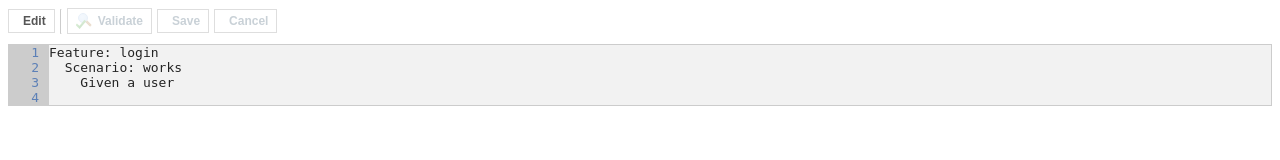
Test: Cucumber Test panel › stays editable and explains itself when saving fails
The width and height of the screenshot is (1280, 160).
Click the button "Edit": click(31, 21) [8,9,55,33]
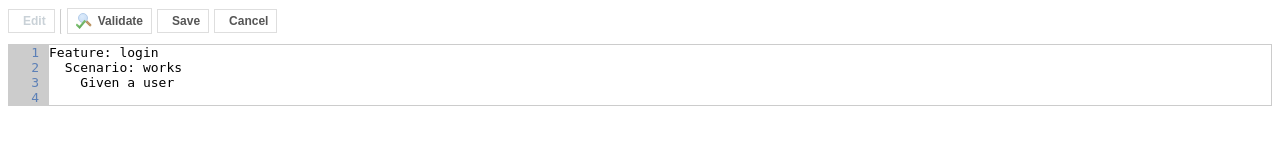
Click the button "Save": click(183, 21) [157,9,209,33]
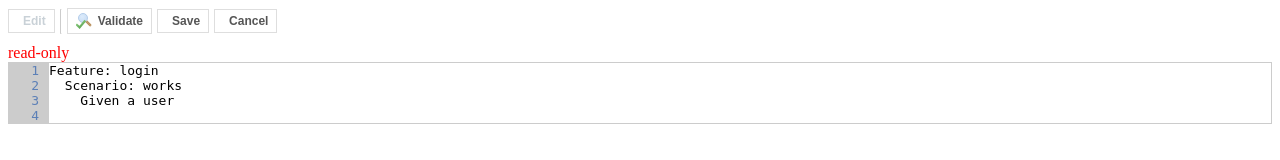
Check: the text with id "feature-error" reads "read-only", box [8,44,69,61]
